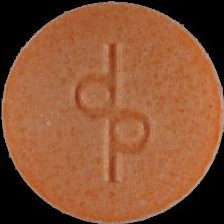63629-3769: (0, 0, 224, 224)
